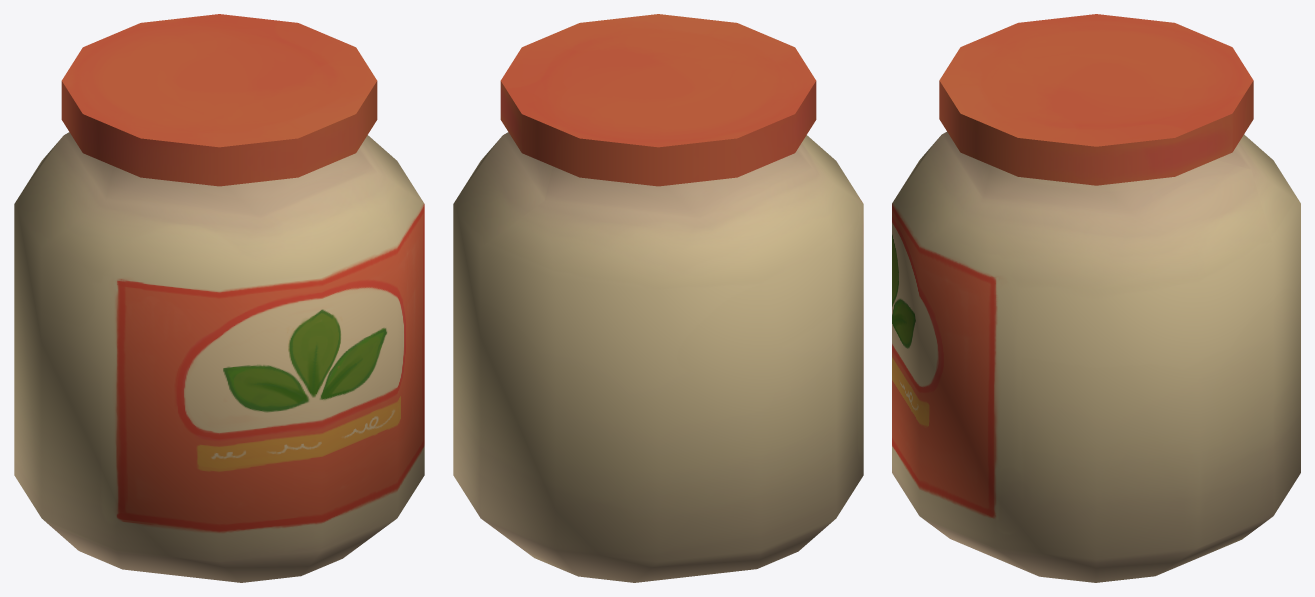
Rendered from Banka.fbx.
3 renders of one model, left to right at view 1: azimuth 30°, elevation 25°; view 2: azimuth 150°, elevation 25°; view 3: azimuth 270°, elevation 25°, orthographic.
Parts seen in each view (by area): view 1: Banka; view 2: Banka; view 3: Banka.
Boxes of the visible parts, x1,y1,x2,y2 form: Banka: [14, 14, 424, 582]; Banka: [453, 14, 863, 582]; Banka: [892, 14, 1300, 582].
Size of the model in its own units: 21.35 by 25.03 by 21.35.
